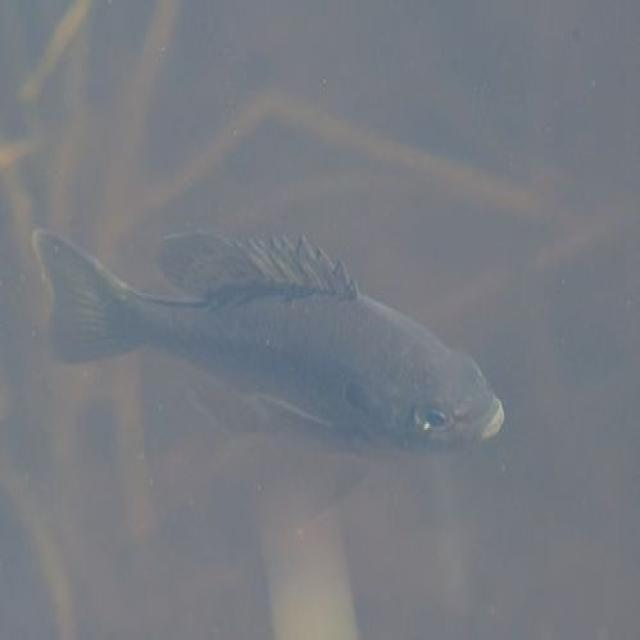Gunes Levregi: (28, 214, 510, 483)
